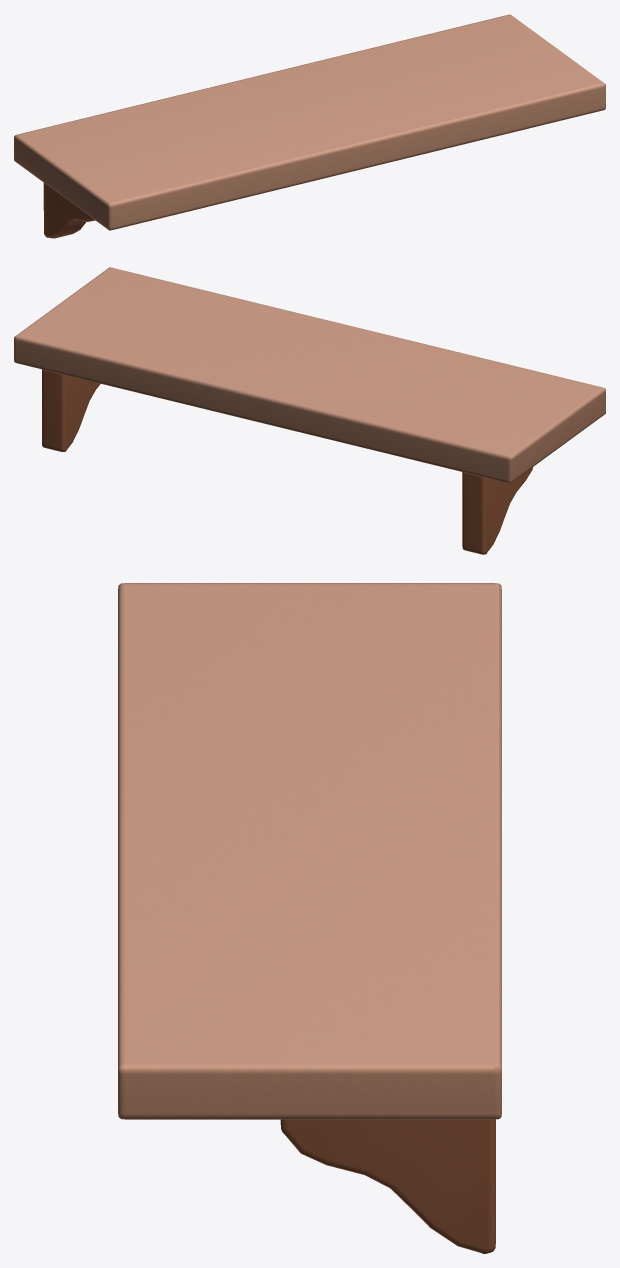
Rendered from shelf01.fbx.
3 renders of one model, top to bottom at view 1: azimuth 30°, elevation 25°; view 2: azimuth 150°, elevation 25°; view 3: azimuth 270°, elevation 25°, orthographic. The views are drawn at different scales.
Visible parts, largest first — view 1: Cube.001; view 2: Cube.001; view 3: Cube.001.
Boxes of the visible parts, x1=… form: Cube.001: x1=14, y1=14, x2=605, y2=238; Cube.001: x1=14, y1=267, x2=605, y2=554; Cube.001: x1=118, y1=583, x2=501, y2=1253.
Bounding box in the file's own units: 0.9613 × 0.3212 × 0.197.
1 material, 1 textured.
